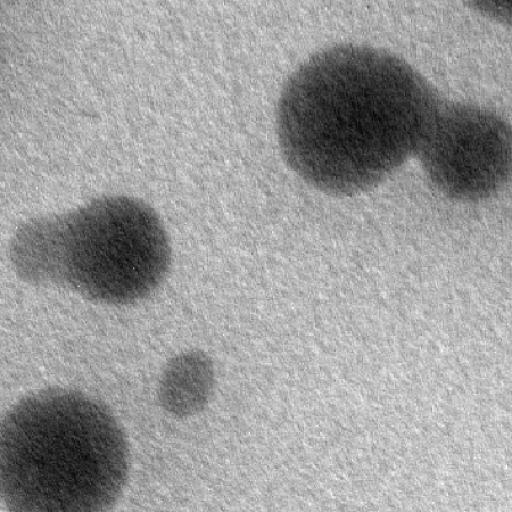Nanoparticles: (278, 45, 418, 192), (1, 384, 129, 512), (69, 196, 176, 309), (441, 102, 512, 202), (12, 215, 67, 290), (156, 350, 218, 416), (398, 74, 442, 157)
